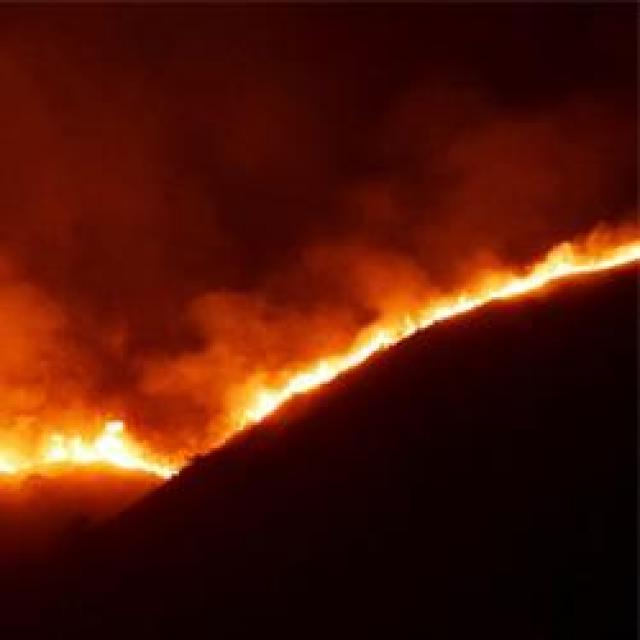fire: (3, 419, 175, 479), (465, 236, 637, 295), (226, 359, 340, 422), (354, 326, 388, 356), (418, 305, 465, 319)
smoke: (375, 79, 552, 267), (0, 272, 111, 398), (186, 259, 296, 372), (134, 346, 232, 436), (339, 238, 426, 296)
